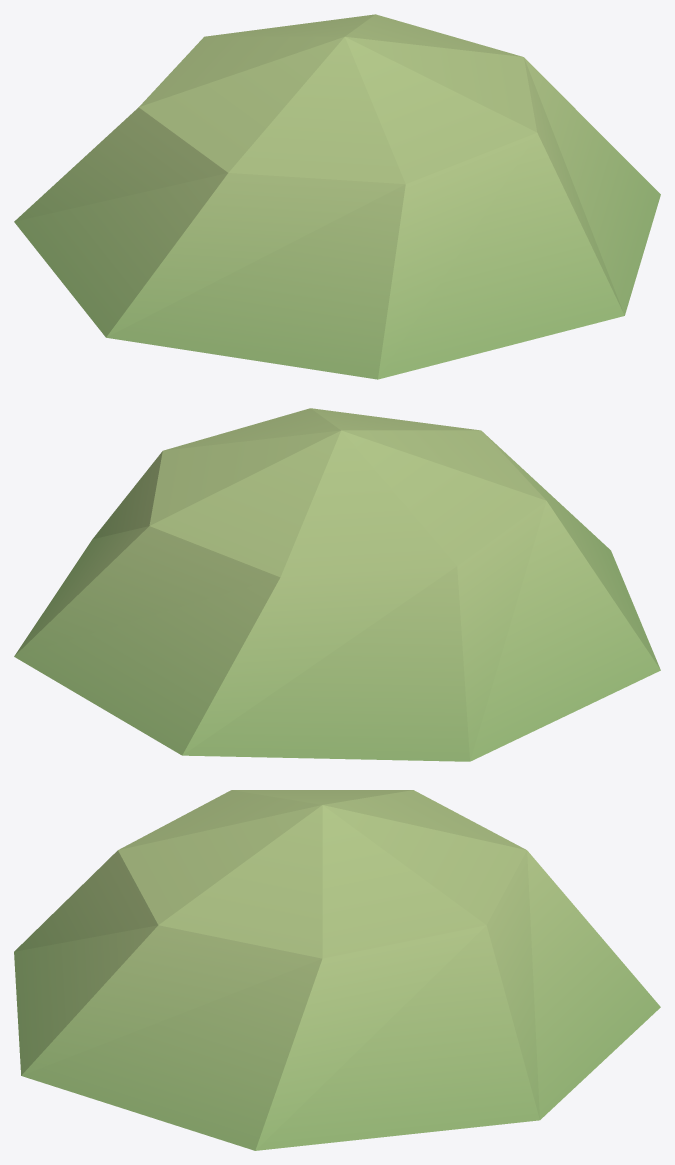
The model's file is lettuce.glb.
3 renders of one model, top to bottom at view 1: azimuth 30°, elevation 25°; view 2: azimuth 150°, elevation 25°; view 3: azimuth 270°, elevation 25°, orthographic.
Parts seen in each view (by area): view 1: lettuce_mesh; view 2: lettuce_mesh; view 3: lettuce_mesh.
Boxes of the visible parts, x1=… form: lettuce_mesh: x1=14, y1=14, x2=660, y2=379; lettuce_mesh: x1=14, y1=408, x2=660, y2=761; lettuce_mesh: x1=14, y1=790, x2=660, y2=1150.
Size of the model in its own units: 0.3314 by 0.114 by 0.3249.
